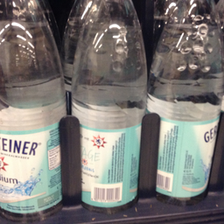water: (65, 2, 147, 213), (147, 1, 223, 208), (1, 1, 66, 222)
